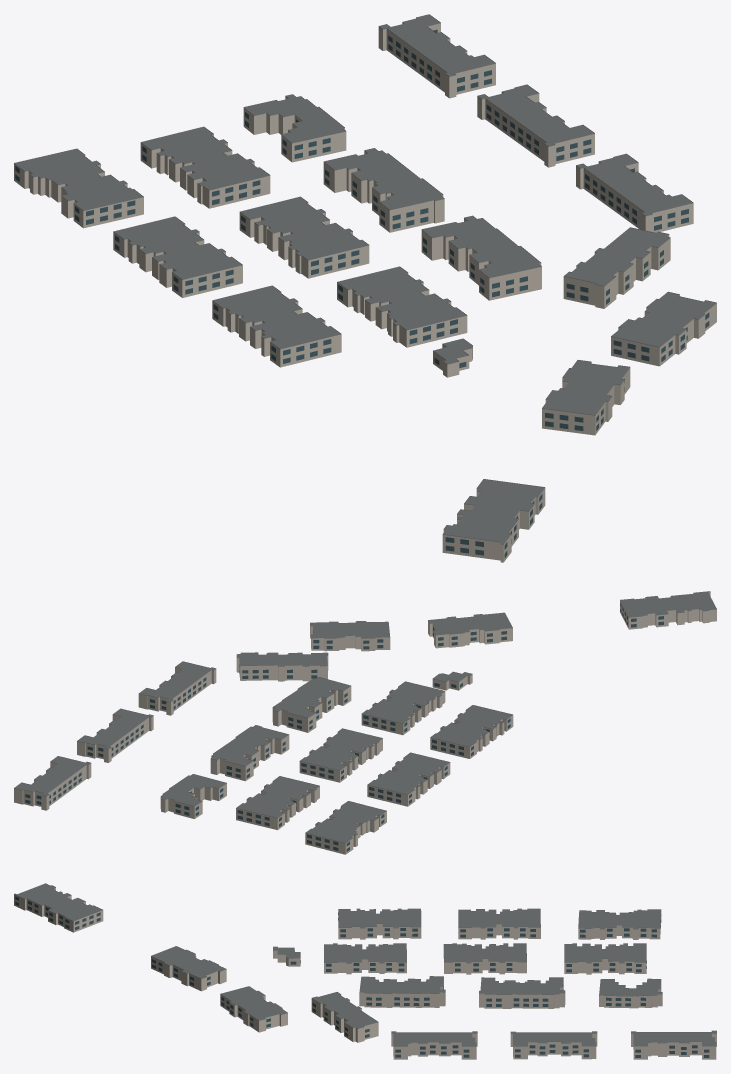
3 renders of one model, top to bottom at view 1: azimuth 30°, elevation 25°; view 2: azimuth 150°, elevation 25°; view 3: azimuth 270°, elevation 25°, orthographic. The views are drawn at different scales.
Visible parts, largest first — view 1: Buildings (-7, 4) Roof membrane, Buildings (-7, 4) Masonry brick, Buildings (-7, 4) Architectural tinted glass, Buildings (-7, 4) Metal coping; view 2: Buildings (-7, 4) Roof membrane, Buildings (-7, 4) Masonry brick, Buildings (-7, 4) Architectural tinted glass, Buildings (-7, 4) Metal coping; view 3: Buildings (-7, 4) Roof membrane, Buildings (-7, 4) Masonry brick, Buildings (-7, 4) Architectural tinted glass, Buildings (-7, 4) Metal coping.
Boxes of the visible parts, x1=… form: Buildings (-7, 4) Roof membrane: x1=15, y1=14, x2=715, y2=543; Buildings (-7, 4) Masonry brick: x1=14, y1=18, x2=716, y2=562; Buildings (-7, 4) Architectural tinted glass: x1=15, y1=29, x2=709, y2=557; Buildings (-7, 4) Metal coping: x1=14, y1=14, x2=716, y2=544; Buildings (-7, 4) Roof membrane: x1=15, y1=591, x2=716, y2=842; Buildings (-7, 4) Masonry brick: x1=14, y1=592, x2=716, y2=854; Buildings (-7, 4) Architectural tinted glass: x1=25, y1=603, x2=663, y2=851; Buildings (-7, 4) Metal coping: x1=14, y1=591, x2=716, y2=843; Buildings (-7, 4) Roof membrane: x1=15, y1=883, x2=716, y2=1046; Buildings (-7, 4) Masonry brick: x1=14, y1=887, x2=716, y2=1059; Buildings (-7, 4) Architectural tinted glass: x1=15, y1=896, x2=709, y2=1057; Buildings (-7, 4) Metal coping: x1=14, y1=883, x2=716, y2=1046.
Bounding box in the file's own units: 196 × 10.2 × 363.
